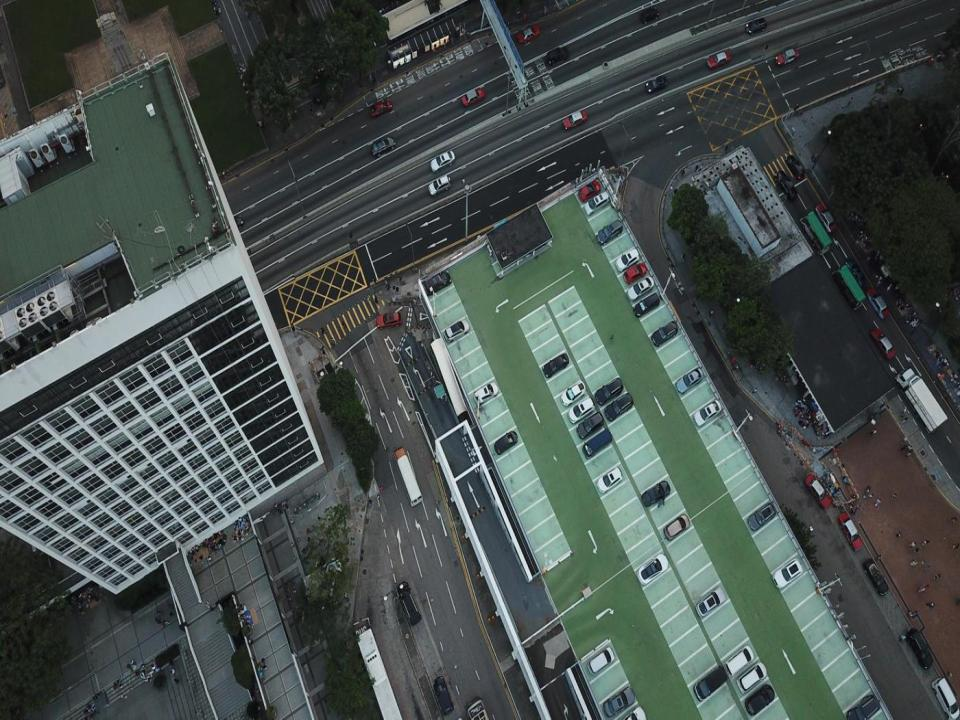bus: (356, 629, 403, 719), (393, 445, 422, 507), (832, 265, 866, 311), (800, 212, 832, 256)
car: (692, 664, 729, 701), (931, 676, 960, 718), (396, 580, 421, 626), (906, 627, 932, 670), (636, 553, 668, 585), (736, 662, 768, 694), (695, 586, 726, 618), (838, 512, 864, 550), (745, 684, 775, 716), (845, 694, 882, 719), (805, 473, 831, 508), (864, 559, 889, 595), (772, 558, 802, 588), (604, 687, 635, 716), (725, 645, 754, 676), (870, 327, 896, 359), (433, 676, 454, 715), (640, 480, 670, 507), (747, 502, 775, 530), (595, 377, 622, 406), (588, 647, 615, 676), (604, 394, 634, 420), (692, 400, 722, 426), (675, 367, 703, 394), (868, 288, 890, 321), (560, 380, 586, 407), (568, 397, 594, 424), (577, 412, 603, 439), (664, 514, 690, 540), (774, 171, 797, 200), (844, 258, 867, 287), (815, 203, 837, 233), (543, 353, 569, 378), (597, 219, 623, 244), (651, 322, 677, 347), (597, 467, 623, 492), (627, 277, 654, 301), (424, 271, 450, 295), (473, 382, 499, 406), (444, 319, 470, 343), (584, 192, 610, 216), (634, 293, 660, 317), (494, 431, 518, 455), (615, 248, 639, 272), (430, 150, 456, 172), (578, 180, 601, 203), (427, 174, 451, 196), (562, 109, 587, 130), (466, 697, 489, 719), (623, 263, 647, 283), (371, 137, 396, 156), (706, 51, 731, 70), (786, 154, 804, 180), (774, 48, 800, 65), (377, 311, 401, 329), (370, 99, 392, 118), (546, 46, 568, 65), (461, 88, 484, 106), (516, 25, 539, 43), (745, 17, 768, 35), (646, 77, 668, 93), (640, 7, 658, 24), (225, 215, 243, 228)
truck: (896, 367, 947, 432)
van: (582, 428, 612, 458)
